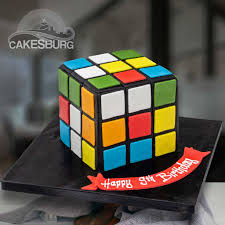cube: (55, 48, 180, 171)
